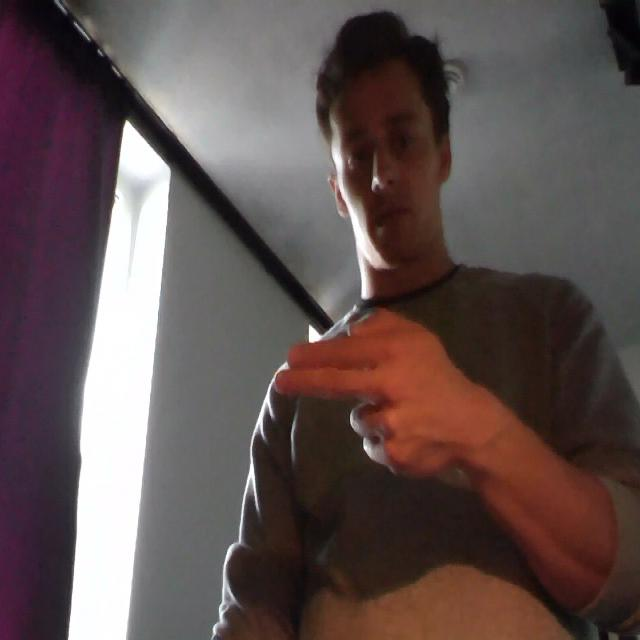left: (270, 308, 471, 481)
